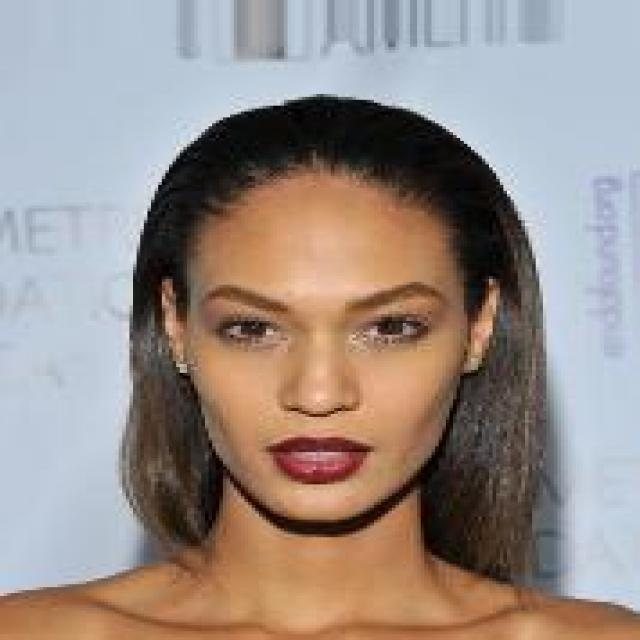nomask: (136, 85, 572, 561)
